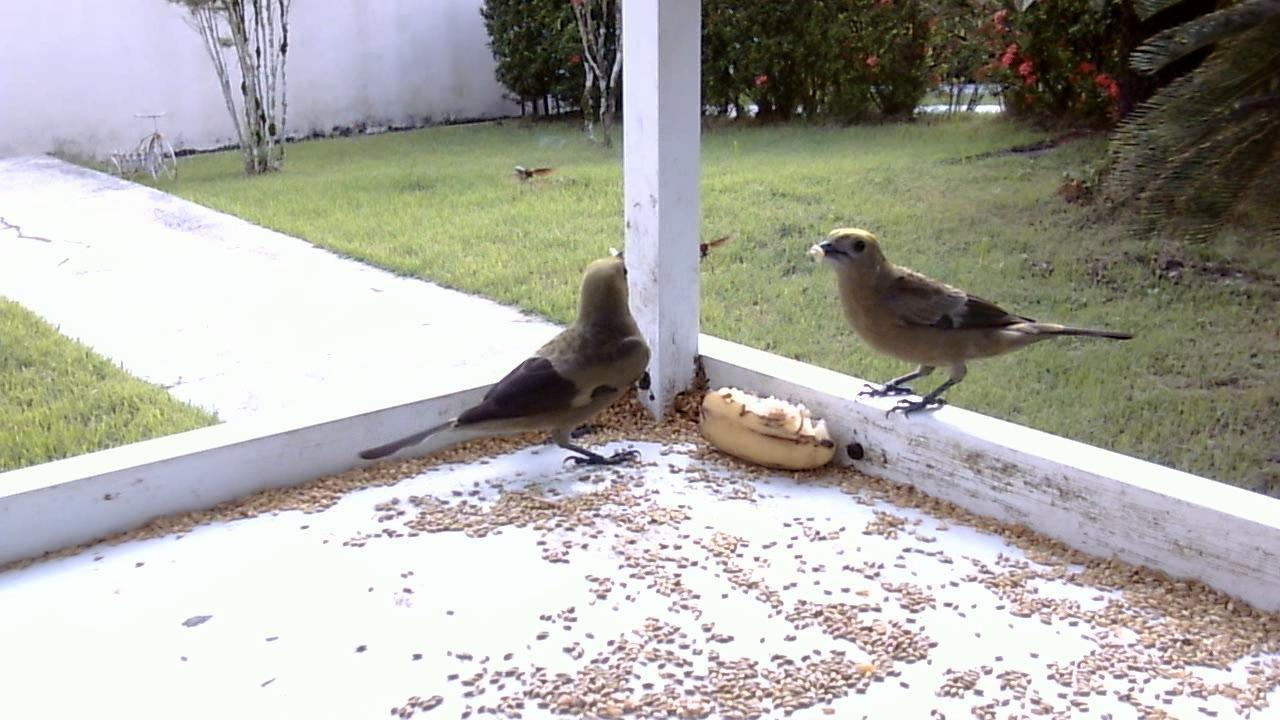sanhaco_do_coqueiro: (351, 255, 657, 485), (807, 228, 1138, 434)
